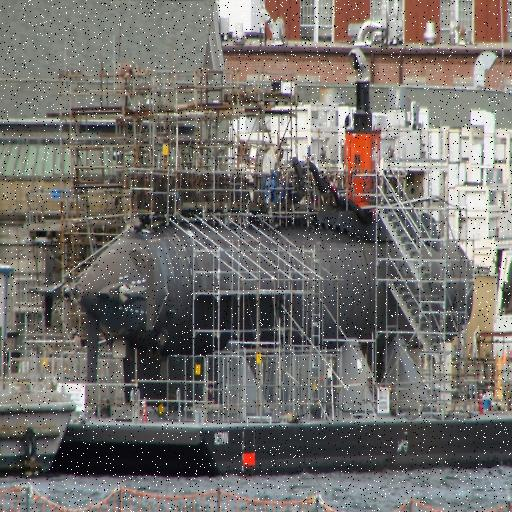submarine: (64, 203, 475, 365)
